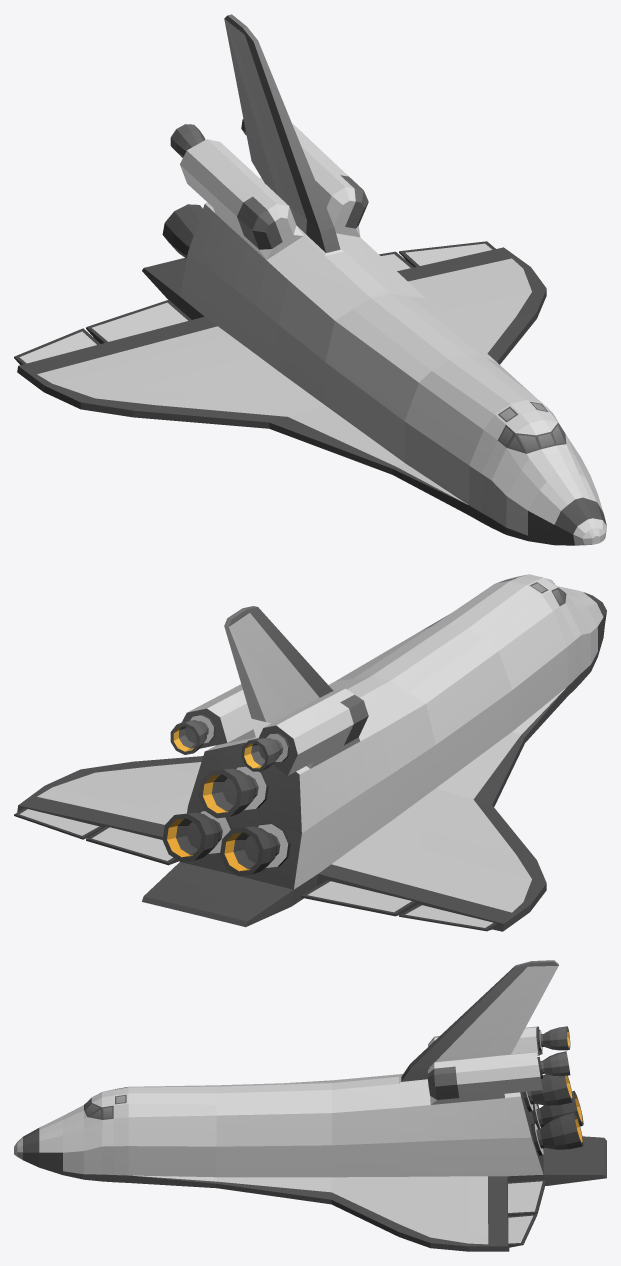
The model's file is space shuttle.fbx.
3 views of the same model, one above another, from view 1: azimuth 30°, elevation 25°; view 2: azimuth 150°, elevation 25°; view 3: azimuth 270°, elevation 25° (orthographic). The views are drawn at different scales.
Parts seen in each view (by area): view 1: space shuttle; view 2: space shuttle; view 3: space shuttle.
Part boxes in pixels (bbox=[...]): space shuttle: bbox=[14, 14, 606, 545]; space shuttle: bbox=[14, 574, 606, 931]; space shuttle: bbox=[14, 960, 606, 1251].
Size of the model in its own units: 1534 by 843 by 2199.
